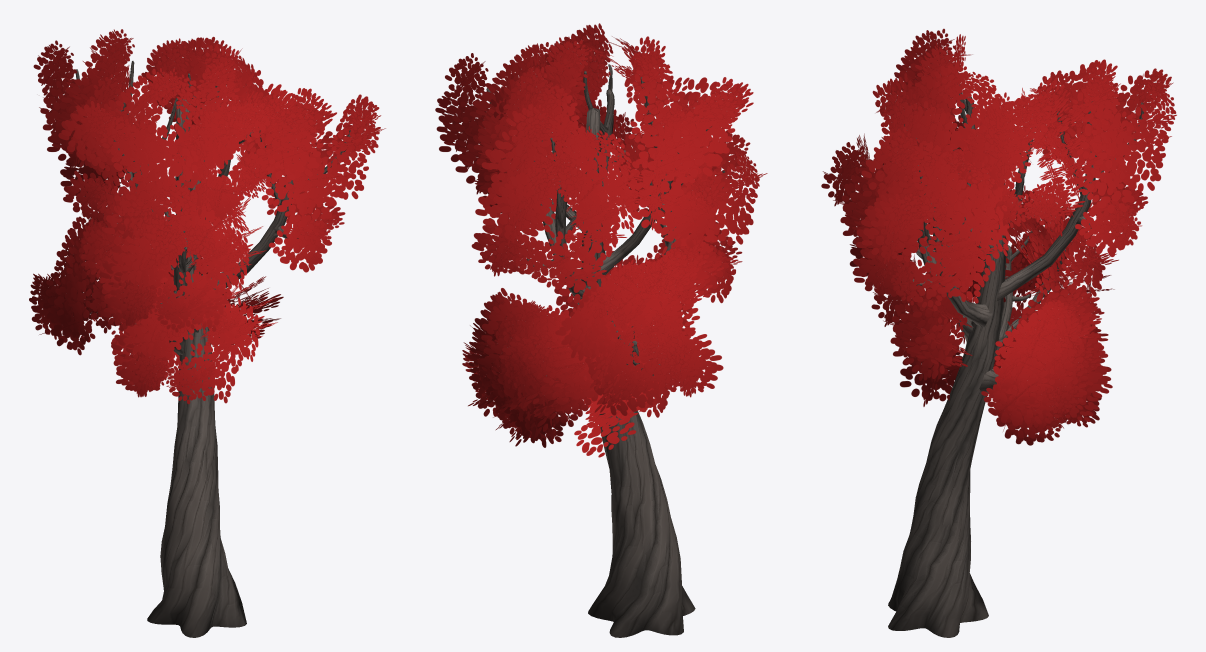
The model's file is Twisted_Tree.glb.
3 views of the same model, side by side, from view 1: azimuth 30°, elevation 25°; view 2: azimuth 150°, elevation 25°; view 3: azimuth 270°, elevation 25° (orthographic). The views are drawn at different scales.
Parts seen in each view (by area): view 1: TwistedTree_5; view 2: TwistedTree_5; view 3: TwistedTree_5.
Part boxes in pixels (<box>): TwistedTree_5: <box>29,29,385,637</box>; TwistedTree_5: <box>435,23,767,637</box>; TwistedTree_5: <box>821,28,1176,637</box>.
Size of the model in its own units: 9.49 by 15.66 by 9.39.
Materials: 2 (2 with a texture image).
